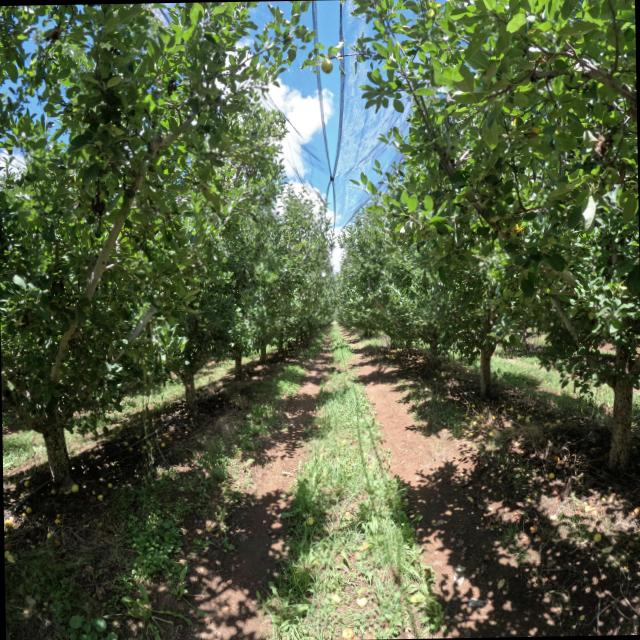-FireBlight-: (594, 127, 616, 156), (42, 21, 63, 43), (87, 192, 105, 214), (166, 78, 176, 96)
